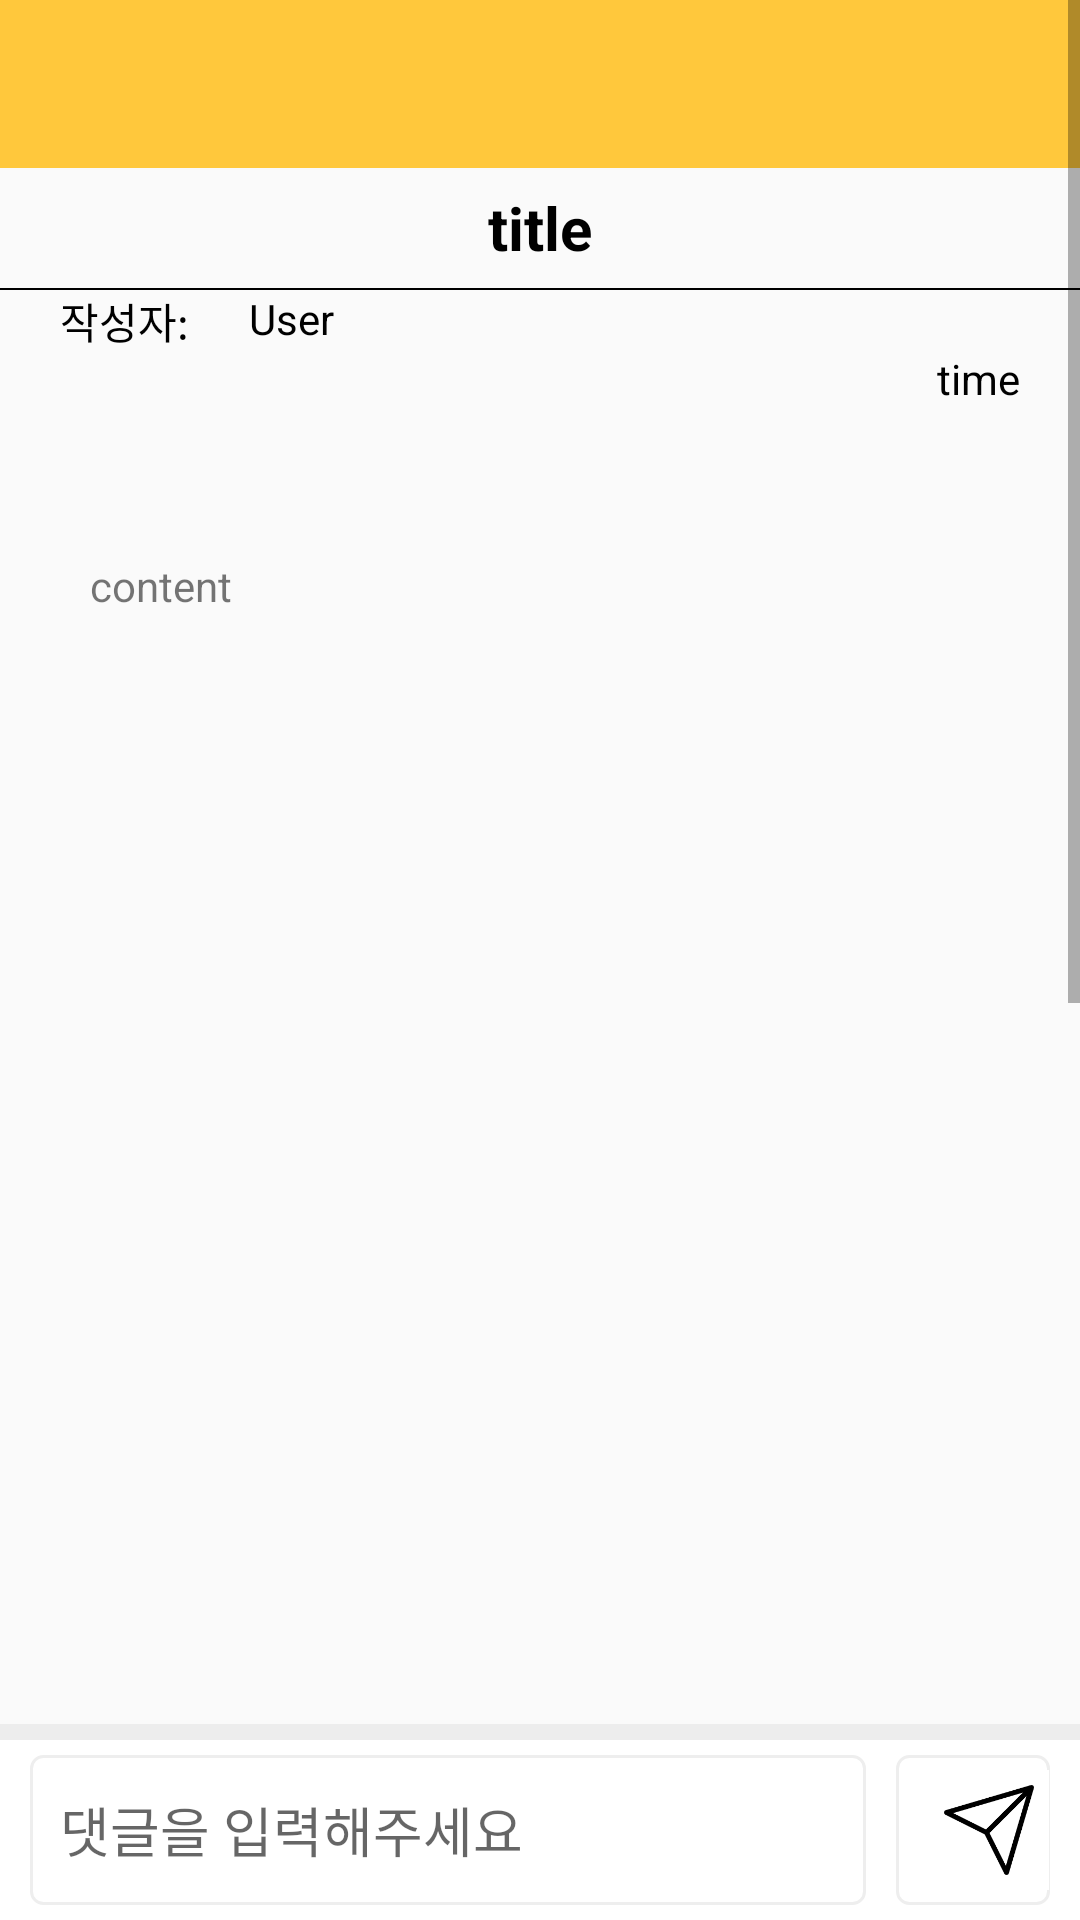

Named icons in this screenshot (1080w x 1920h) and their centers, (x=x, y=y):
sendimg: (x=989, y=1830)
